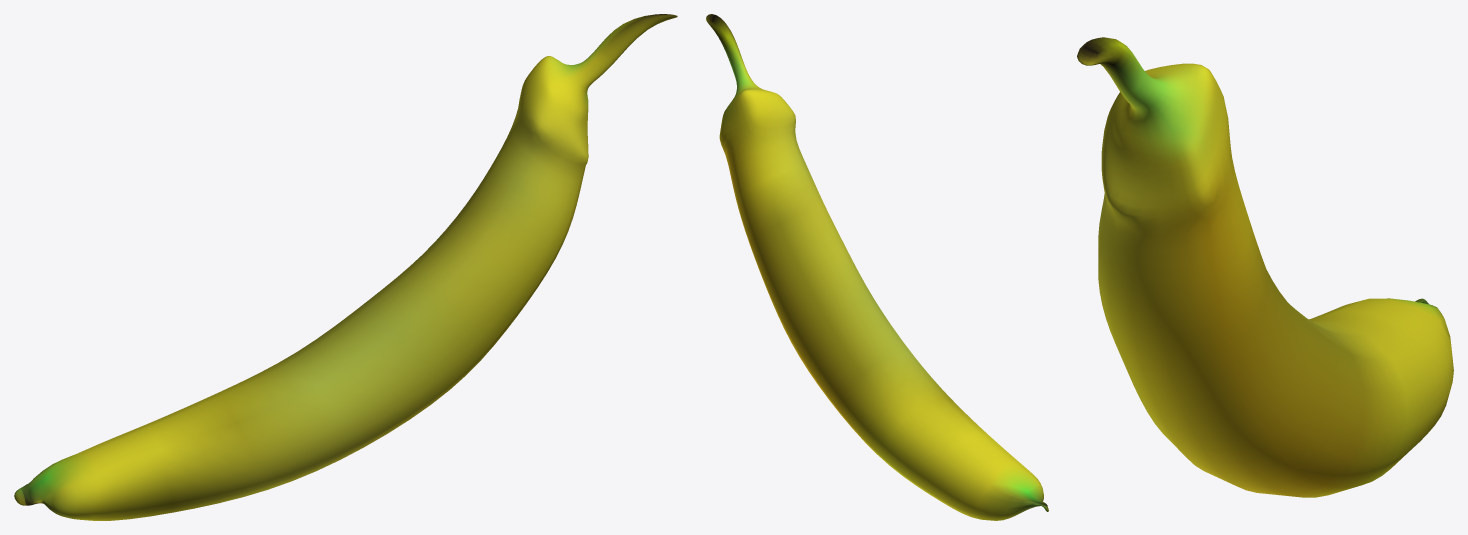
File: banana.fbx
3 renders of one model, left to right at view 1: azimuth 30°, elevation 25°; view 2: azimuth 150°, elevation 25°; view 3: azimuth 270°, elevation 25°, orthographic. The views are drawn at different scales.
Visible parts, largest first — view 1: Cube; view 2: Cube; view 3: Cube.
Part boxes in pixels (<box>): Cube: <box>14,14,677,520</box>; Cube: <box>706,14,1048,520</box>; Cube: <box>1077,37,1453,497</box>.
Bounding box in the file's own units: 214 × 173 × 82.27.
